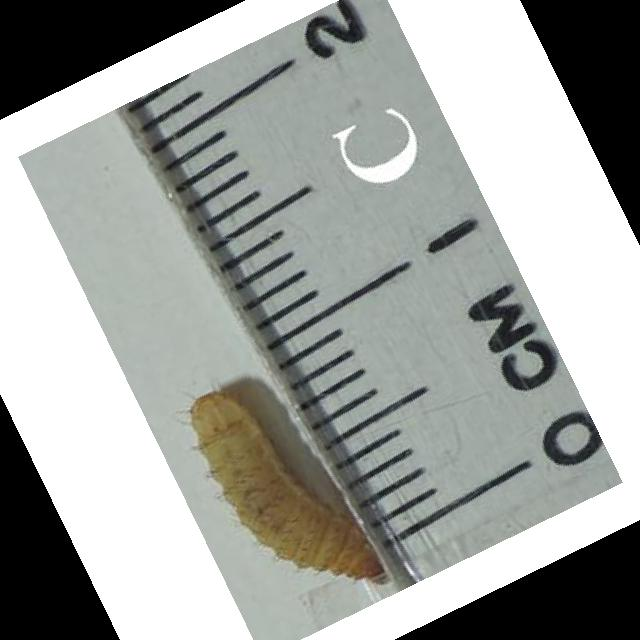Maggot: (185, 390, 381, 587)
